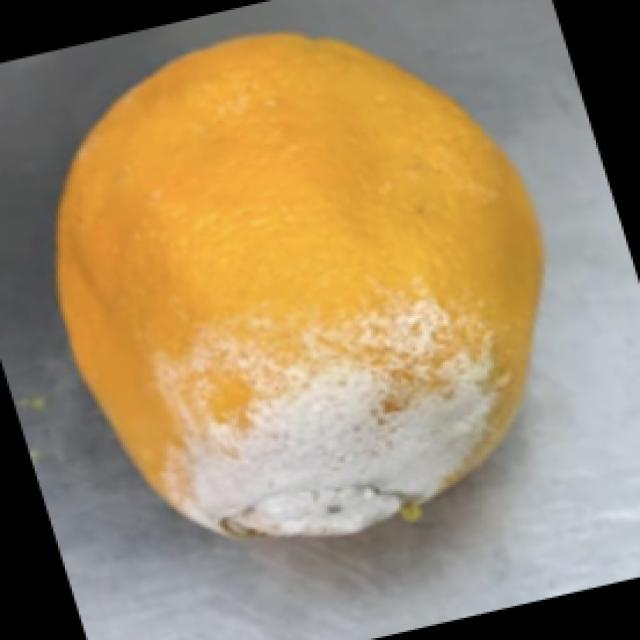sedikit-busuk: (58, 35, 541, 535), (161, 275, 513, 535)
